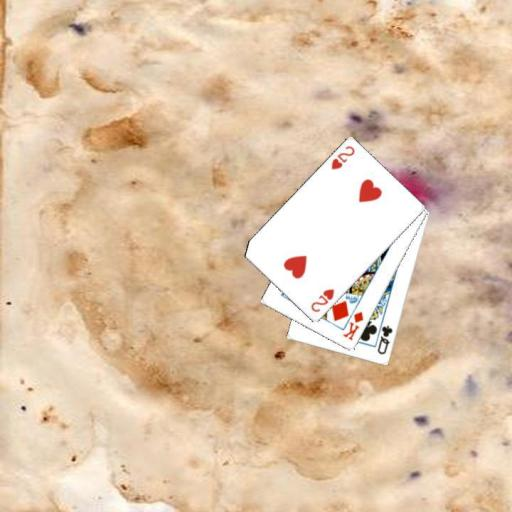2H: (307, 286, 336, 314), (328, 143, 356, 171)
KD: (340, 309, 365, 342)
QC: (374, 322, 394, 356)
